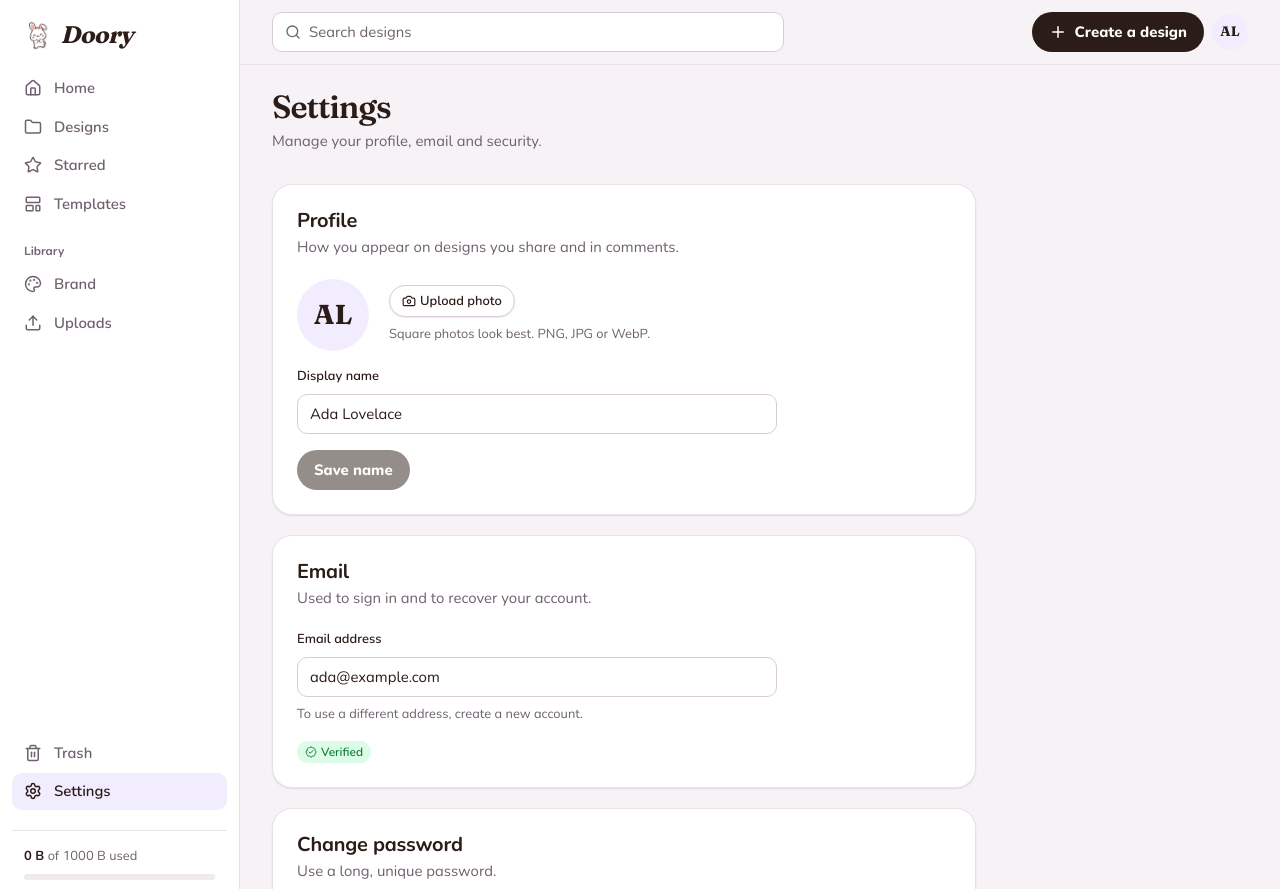
Test: settings: profile › rejects an empty name and shows server validation errors
The width and height of the screenshot is (1280, 889).
Clear the field labelled "Display name" at (537, 414), box [310,395,764,433]
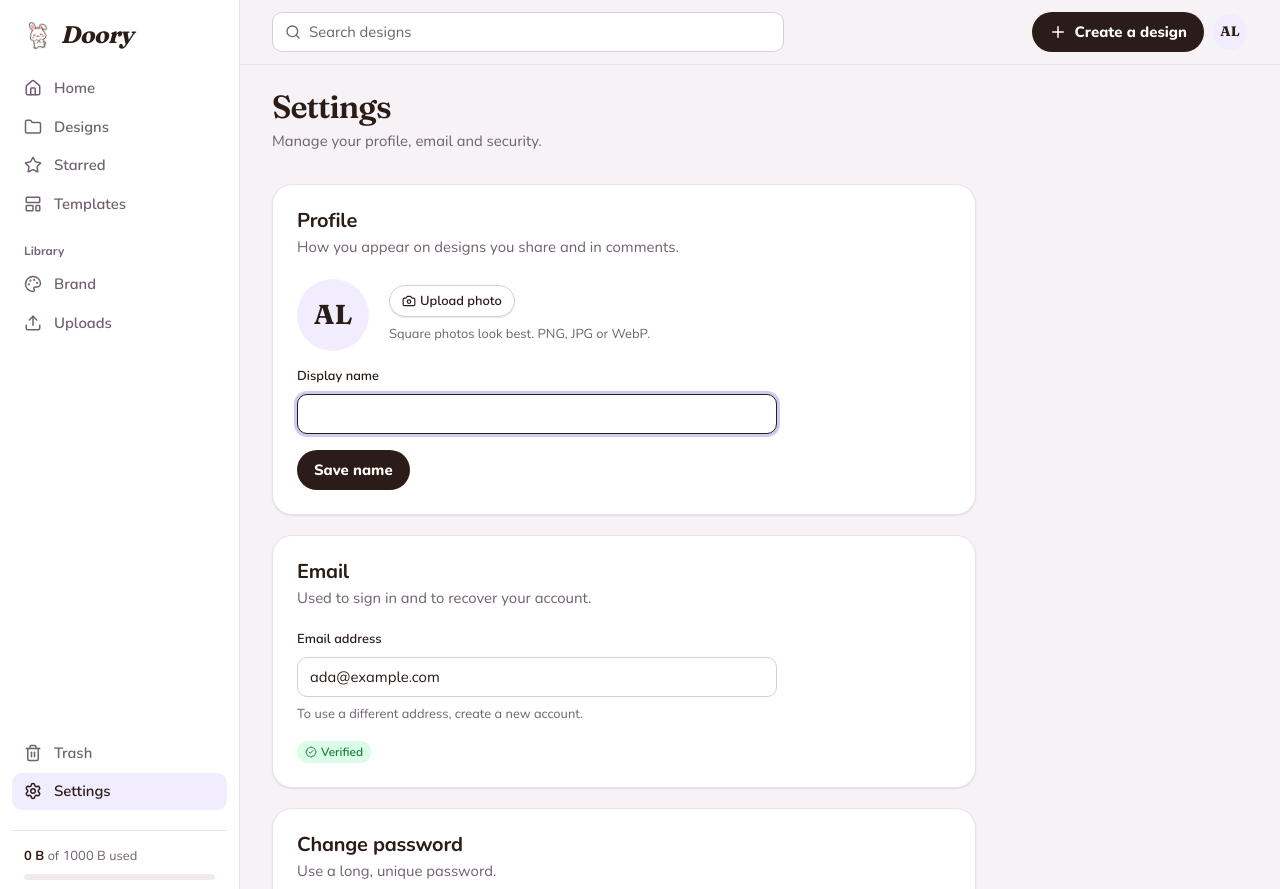
Click the button "Save name".
click(353, 470)  # box [297,450,410,490]
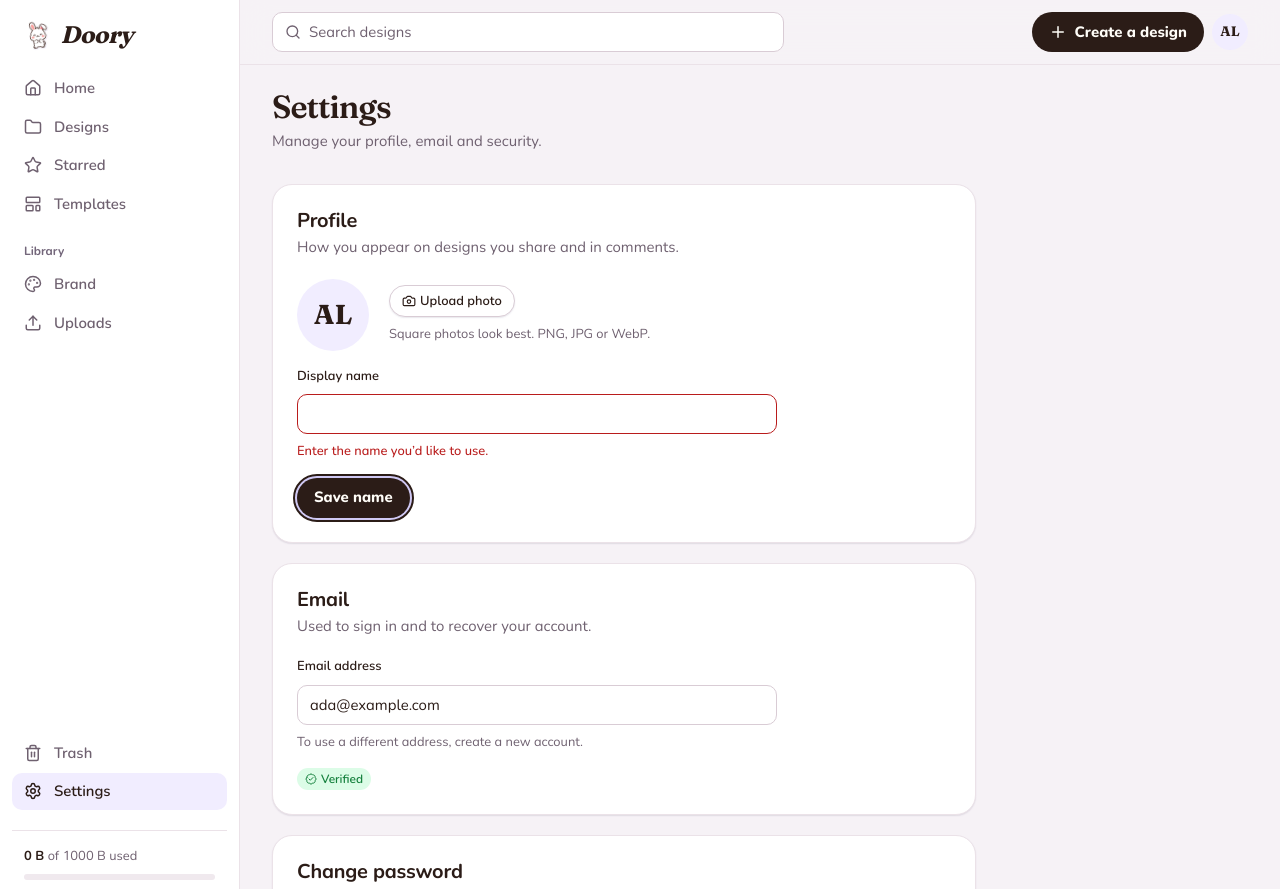
Result: the text "Enter the name you’d like to use." is shown at [297,442,488,460]
Type "x" into the field labelled "Display name".
click(537, 414); type("x")  # box [310,395,764,433]
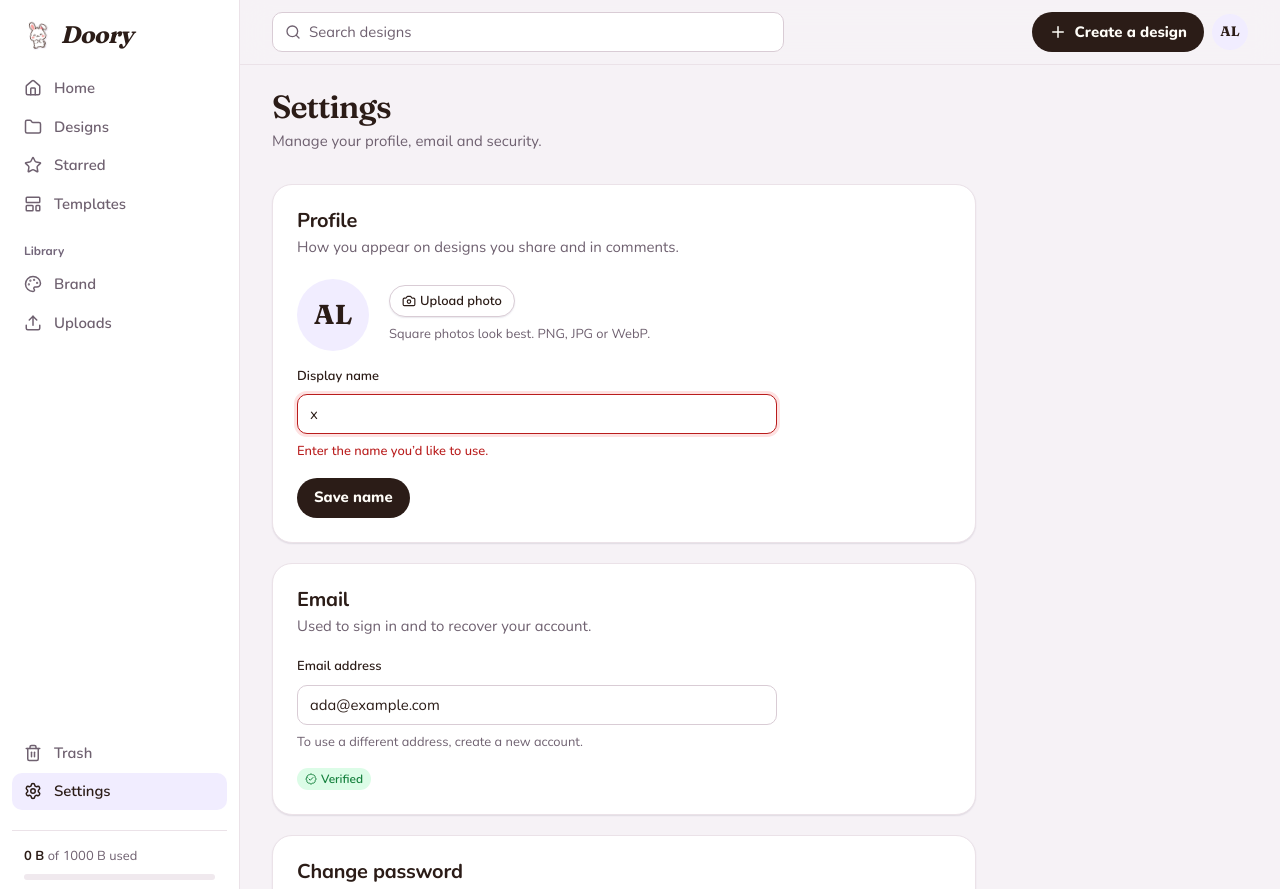
Click the button "Save name".
click(353, 498)  # box [297,478,410,518]
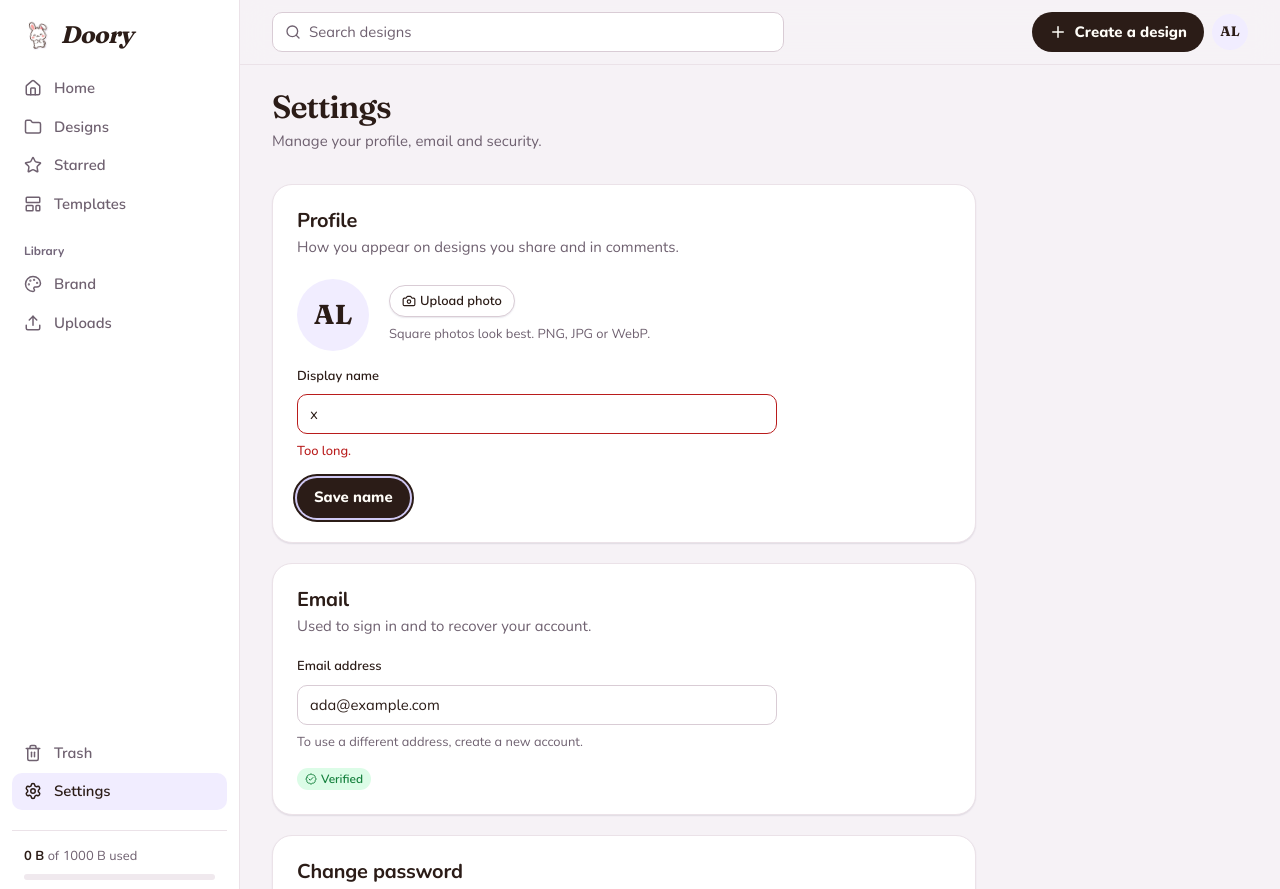
Result: the text "Too long." is shown at [297,442,351,460]
